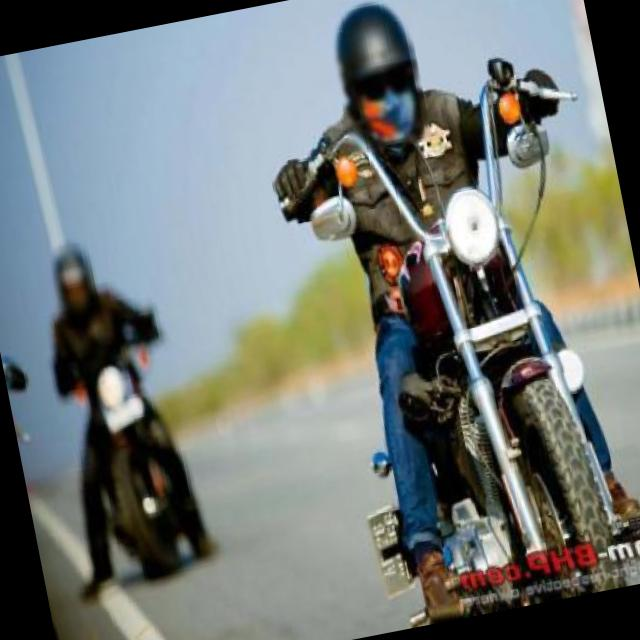With Helmet: (320, 0, 432, 157), (46, 242, 102, 328)
